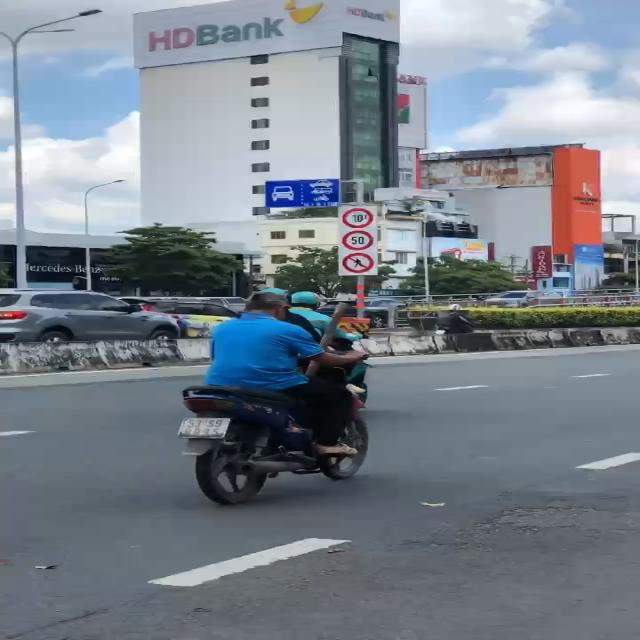Bien bao cam nguoi di bo: (341, 252, 377, 276)
Bien bao toc do toi da cho phep: (336, 229, 378, 253)
